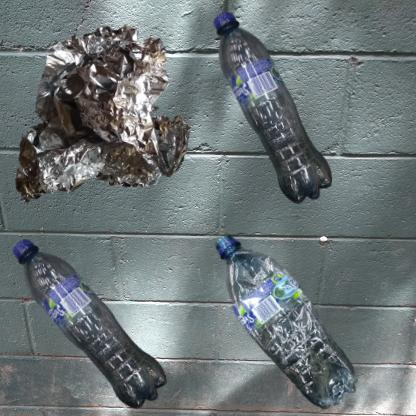aluminio: (10, 10, 211, 233)
botella: (10, 213, 189, 416), (213, 213, 378, 416), (213, 10, 332, 206)
